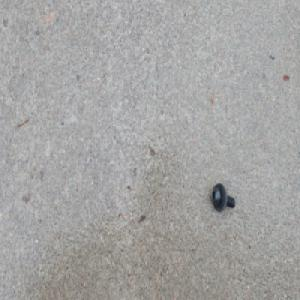BoltWasher: (211, 182, 235, 213)
